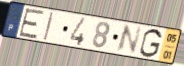4: (69, 16, 86, 47)
8: (92, 21, 112, 50)
E: (17, 8, 46, 40)
G: (138, 28, 163, 60)
I: (42, 11, 55, 42)
N: (114, 23, 144, 55)
